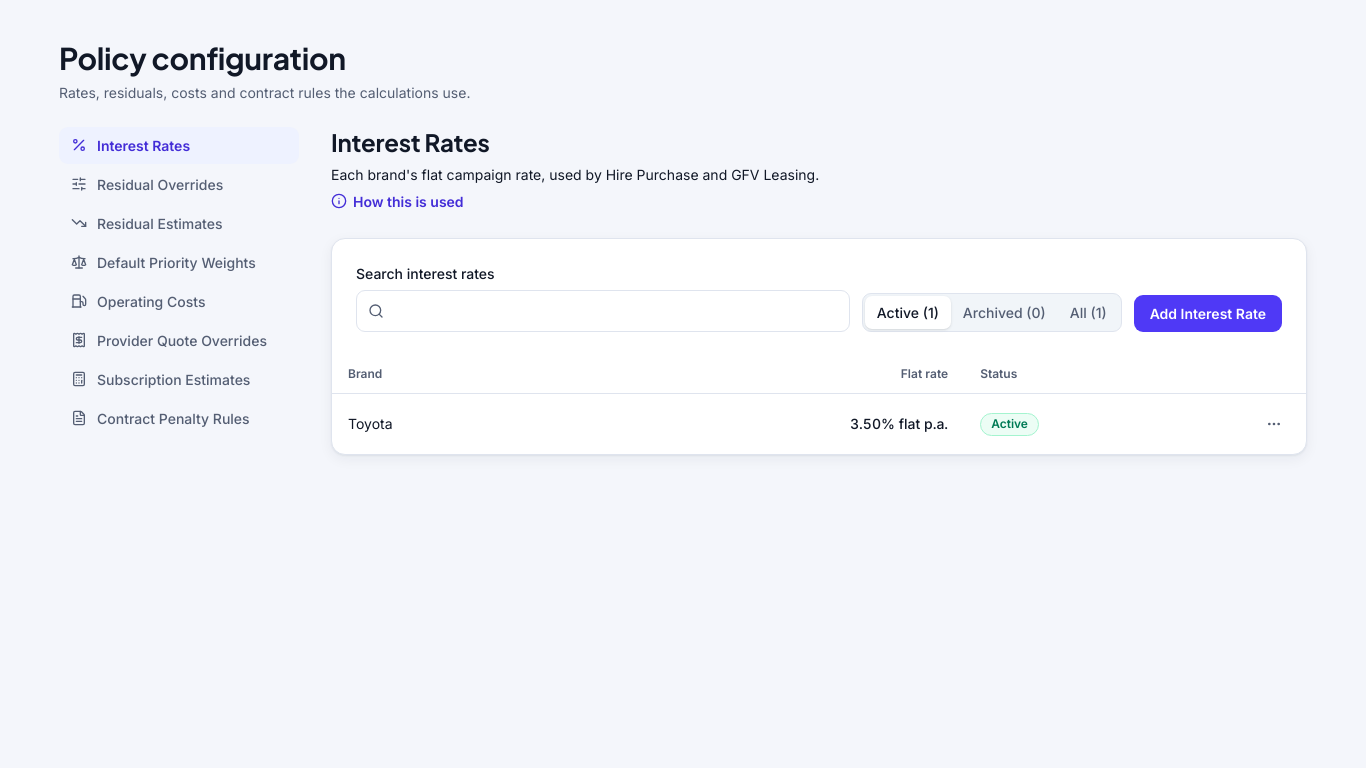
AdminPolicyPage › switches to the MCDA Weights tab and shows a running sum of the three criteria
expect the text "3.50% flat p.a." is shown: met, box [566,394,964,454]
What coordinates should you click on to do the following:
click the tab "Default Priority Weights"
I would click on:
 (179, 262)
Its box is [59,244,299,280].
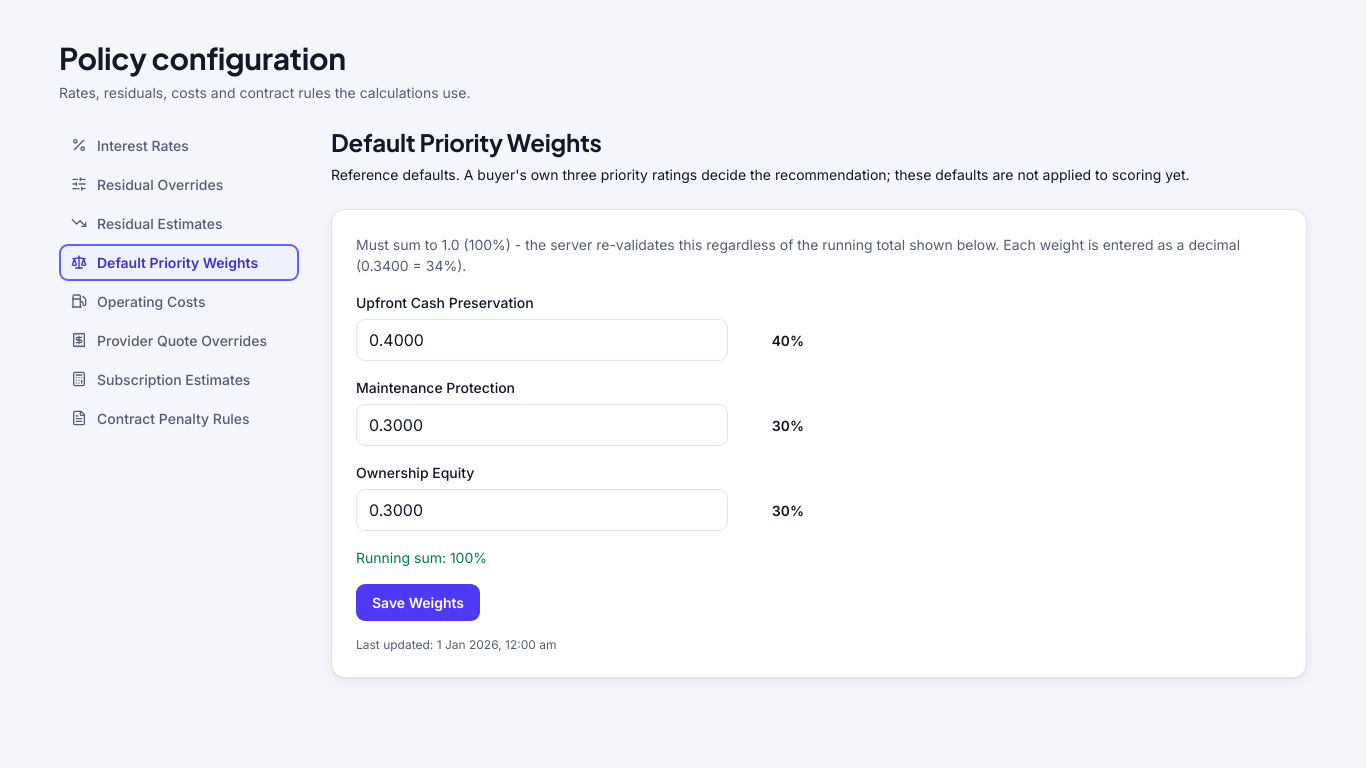
expect the text "Running sum: 100%" is shown: met, box [356,549,487,566]
